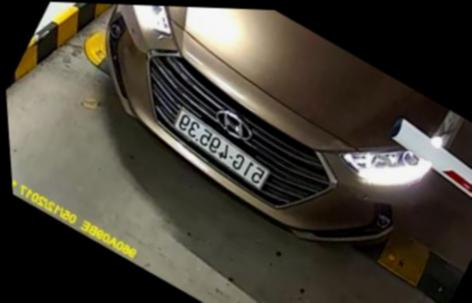License_Plate: (166, 106, 279, 197)
